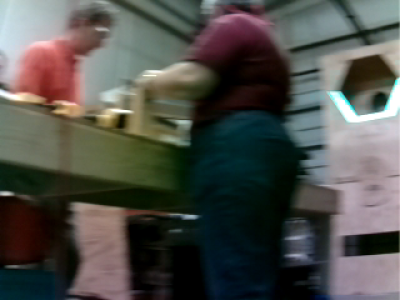target: (327, 77, 400, 123)
